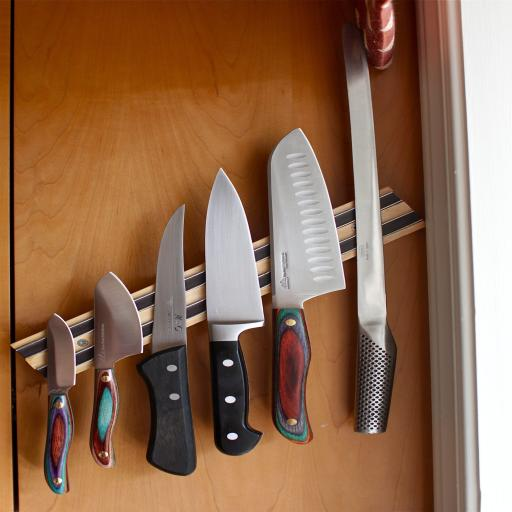knife: (212, 165, 277, 454)
